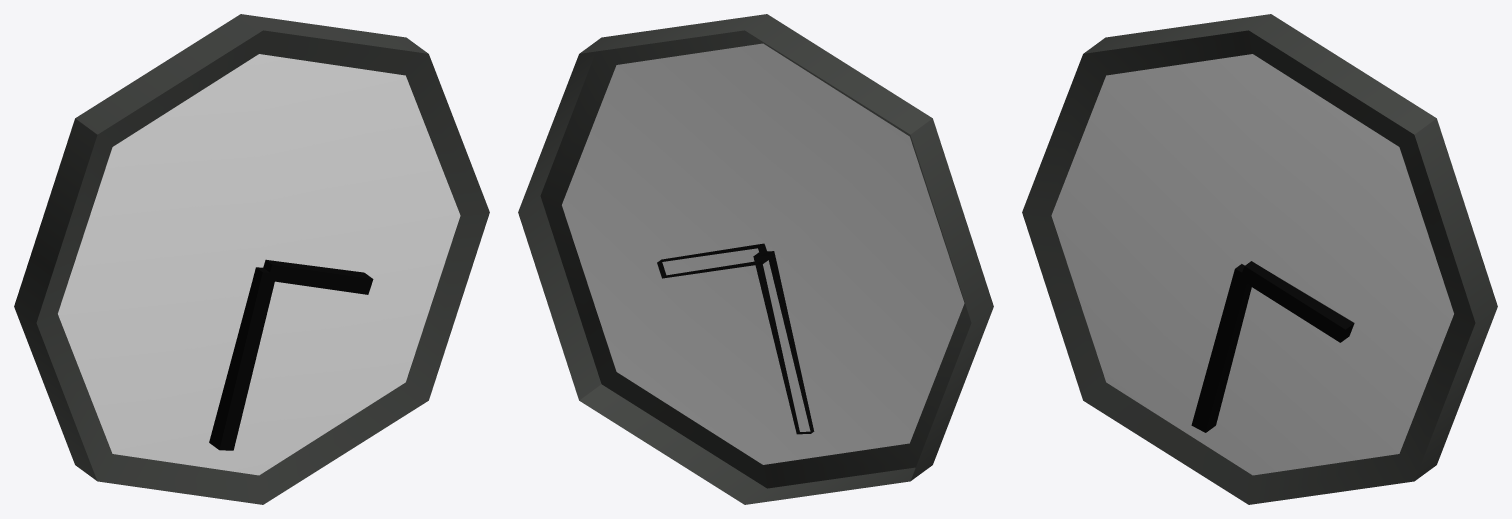
File: clock_full.fbx
3 renders of one model, left to right at view 1: azimuth 30°, elevation 25°; view 2: azimuth 150°, elevation 25°; view 3: azimuth 330°, elevation 25°, orthographic.
Parts seen in each view (by area): view 1: clock_full; view 2: clock_full; view 3: clock_full.
Part boxes in pixels (bbox=[...]): clock_full: bbox=[14, 14, 489, 504]; clock_full: bbox=[518, 14, 993, 504]; clock_full: bbox=[1022, 14, 1497, 504].
Bounding box in the file's own units: 1.37 × 1.37 × 0.1523.
